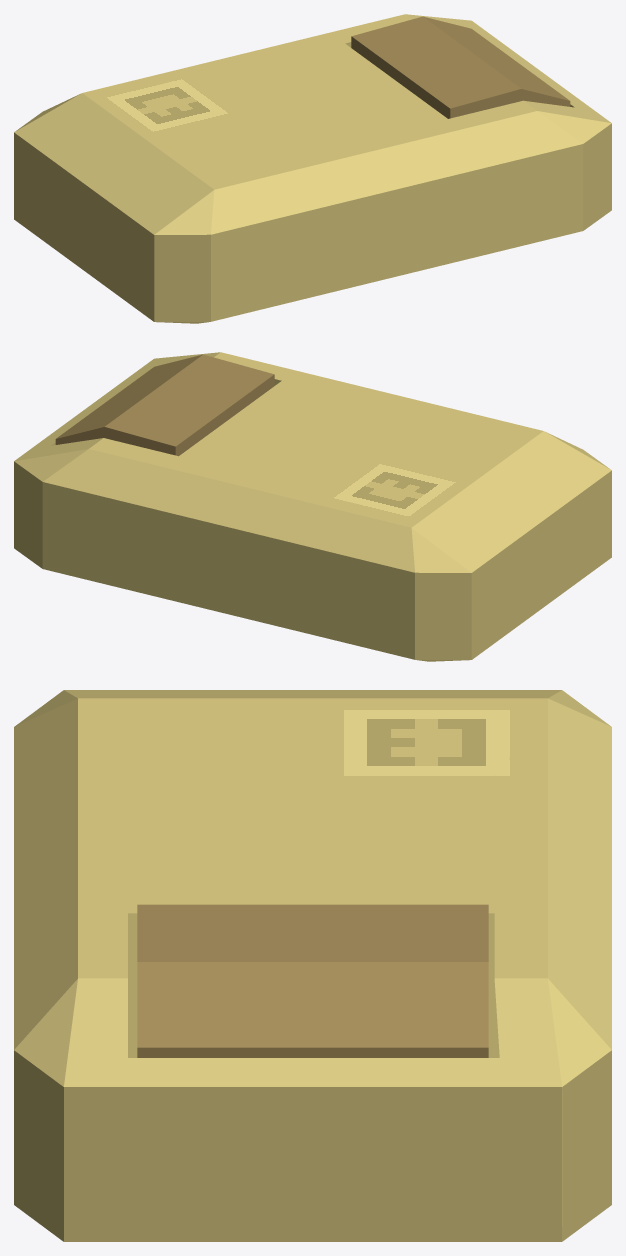
The model's file is mouse.gltf.
The picture shows the model from 3 angles, top to bottom: view 1: azimuth 30°, elevation 25°; view 2: azimuth 150°, elevation 25°; view 3: azimuth 270°, elevation 25°; orthographic projection. The views are drawn at different scales.
Visible parts, largest first — view 1: frame, button; view 2: frame, button; view 3: frame, button.
Part boxes in pixels (x1=…): frame: x1=14, y1=14, x2=611, y2=323; button: x1=351, y1=16, x2=570, y2=118; frame: x1=14, y1=352, x2=611, y2=661; button: x1=55, y1=354, x2=274, y2=456; frame: x1=14, y1=690, x2=611, y2=1241; button: x1=137, y1=904, x2=488, y2=1057.
Bounding box in the file's own units: 1.24 × 0.35 × 0.7875.
Materials: 2 (2 with a texture image).
